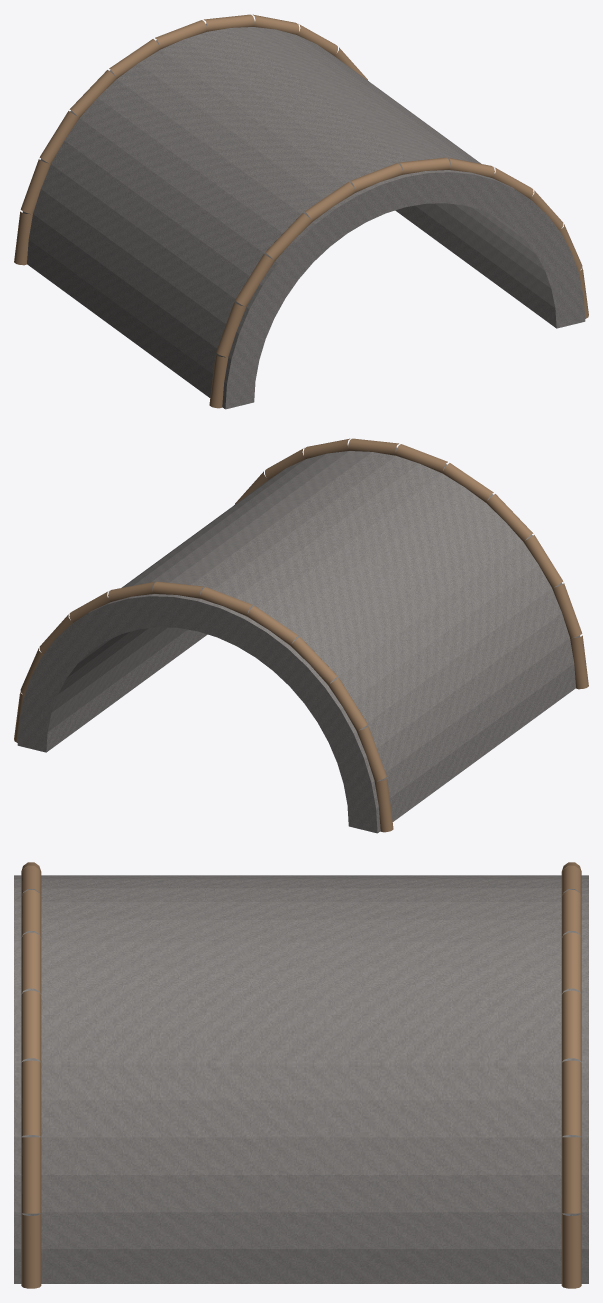
The model's file is arena-shooter-map-kit-ceiling-vault-6346281c__23077.glb.
The picture shows the model from 3 angles, top to bottom: view 1: azimuth 30°, elevation 25°; view 2: azimuth 150°, elevation 25°; view 3: azimuth 270°, elevation 25°; orthographic projection. The views are drawn at different scales.
Visible parts, largest first — view 1: ceiling-vault; view 2: ceiling-vault; view 3: ceiling-vault.
Boxes of the visible parts, x1,y1,x2,y2 form: ceiling-vault: [14, 14, 588, 409]; ceiling-vault: [14, 438, 588, 833]; ceiling-vault: [14, 862, 588, 1288].
Size of the model in its own units: 2.1 by 1.05 by 2.
Materials: 2 (1 with a texture image).
